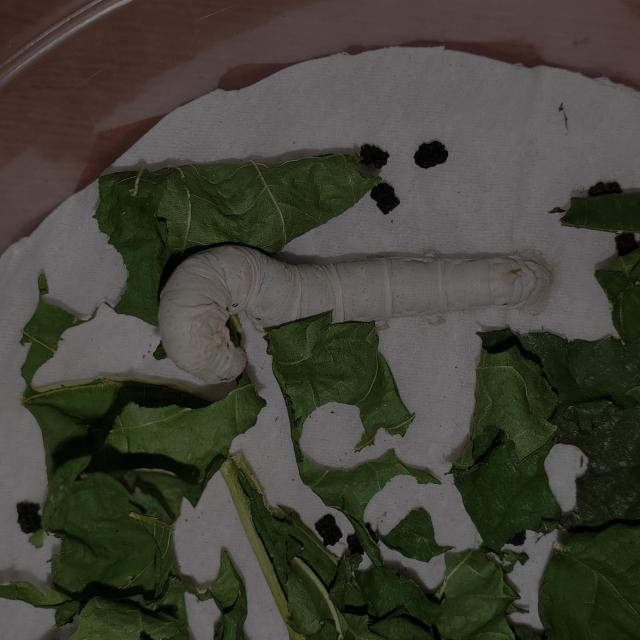Healthy: (146, 232, 555, 386)
